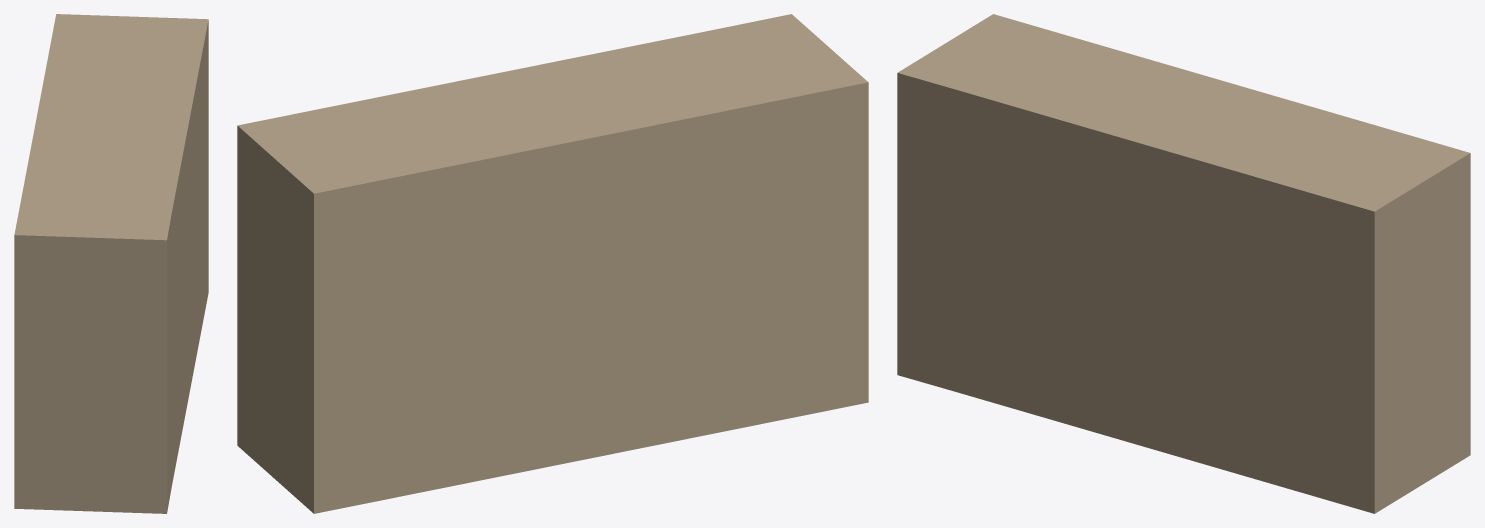
File: bld_100469664.dae
The picture shows the model from 3 angles, left to right: view 1: azimuth 30°, elevation 25°; view 2: azimuth 150°, elevation 25°; view 3: azimuth 270°, elevation 25°; orthographic projection. The views are drawn at different scales.
Parts seen in each view (by area): view 1: bld_100469664; view 2: bld_100469664; view 3: bld_100469664.
Part boxes in pixels (x1,y1,x2,y2): bld_100469664: (14,14,208,513); bld_100469664: (237,14,868,513); bld_100469664: (897,14,1470,513).
Size of the model in its own units: 11.22 by 13.75 by 8.
